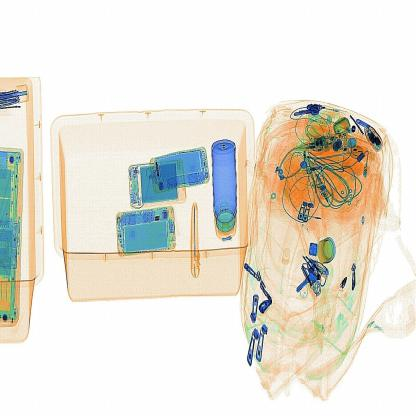pliers: (186, 200, 203, 286)
